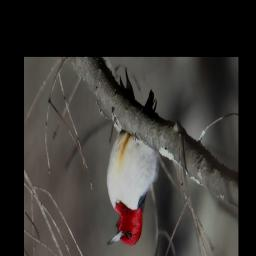Woodpecker: (104, 64, 161, 246)
